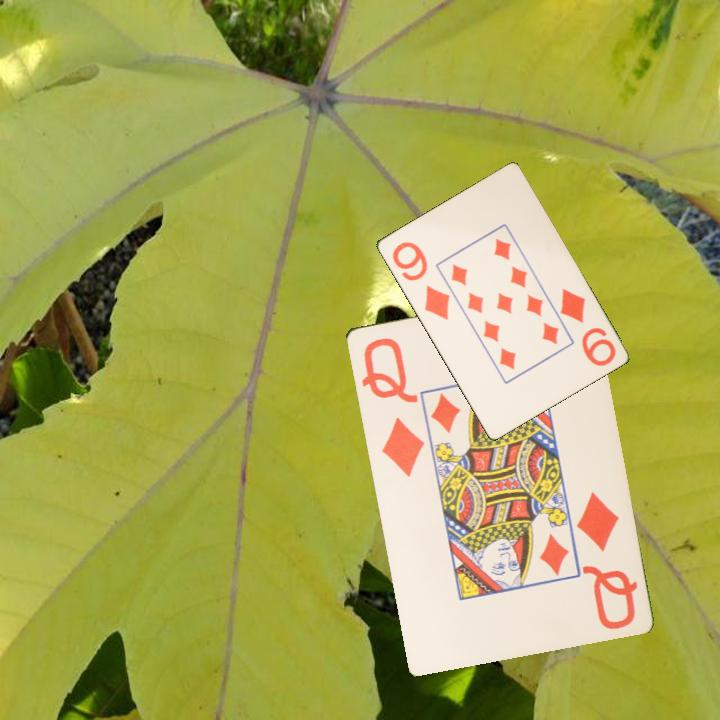9d: (388, 238, 452, 323), (556, 285, 619, 369)
Qd: (358, 333, 427, 480), (572, 487, 640, 634)
